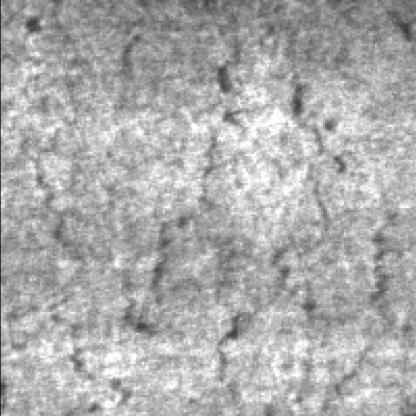crazing: (10, 72, 184, 404), (116, 0, 252, 397), (262, 14, 397, 410)
